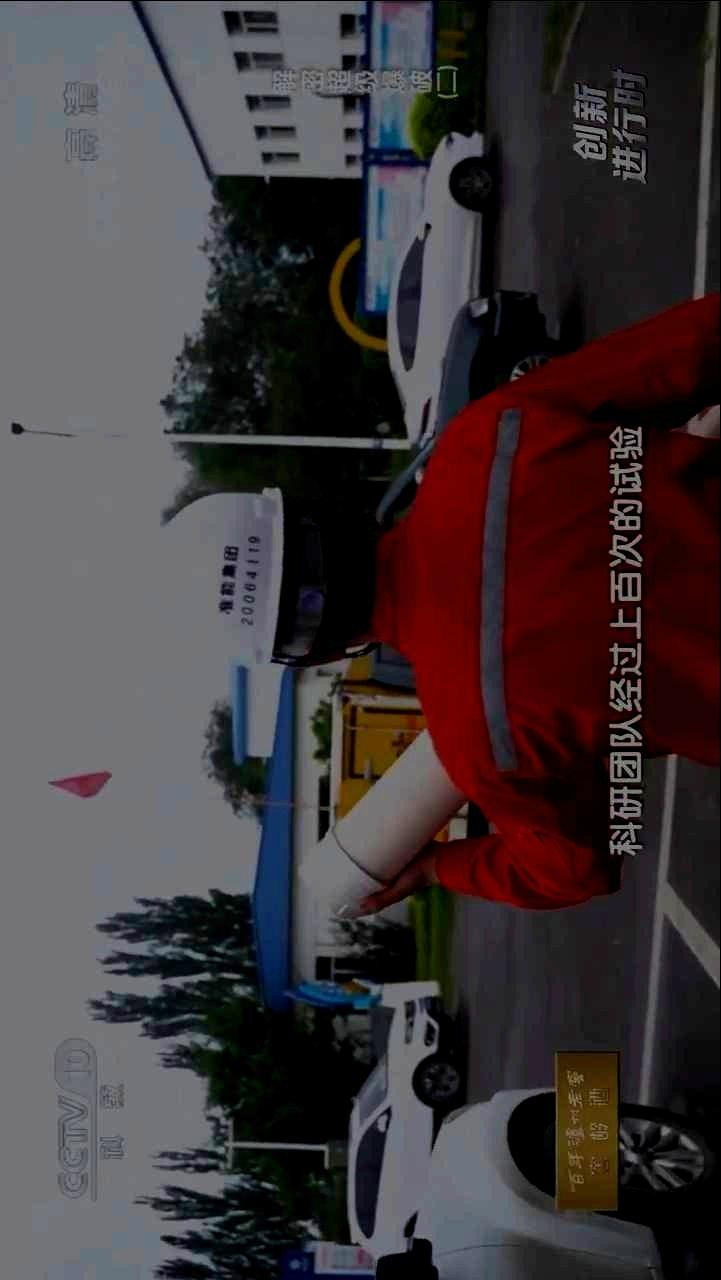helmet: (151, 486, 369, 666)
